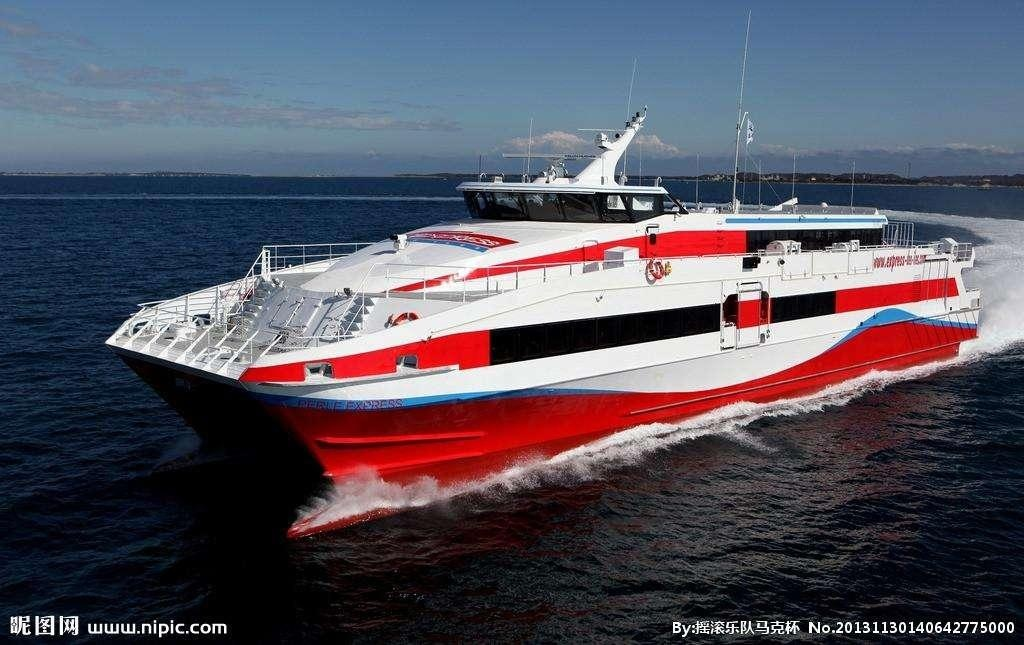yacht: (100, 189, 991, 539)
